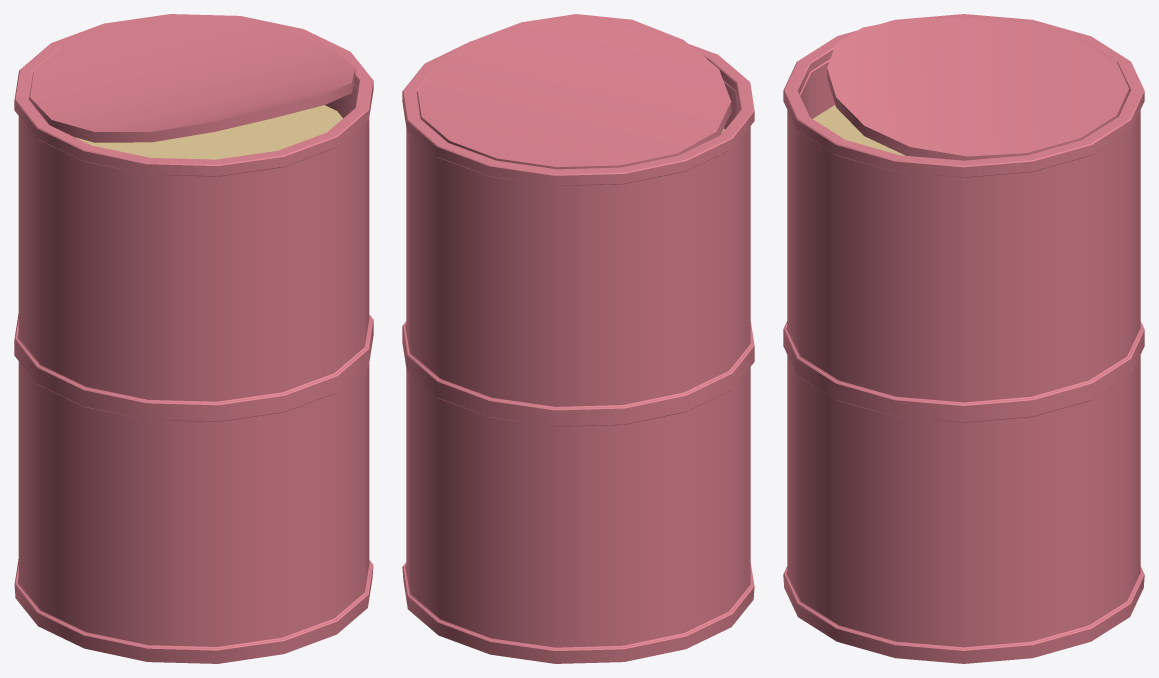
The model's file is Worn Barrel.fbx.
3 renders of one model, left to right at view 1: azimuth 30°, elevation 25°; view 2: azimuth 150°, elevation 25°; view 3: azimuth 270°, elevation 25°, orthographic.
Parts seen in each view (by area): view 1: Cylinder.001; view 2: Cylinder.001; view 3: Cylinder.001.
Boxes of the visible parts, x1,y1,x2,y2 form: Cylinder.001: (14,14,373,663); Cylinder.001: (402,14,754,663); Cylinder.001: (783,14,1144,663).
Size of the model in its own units: 66.13 by 106 by 66.13.
